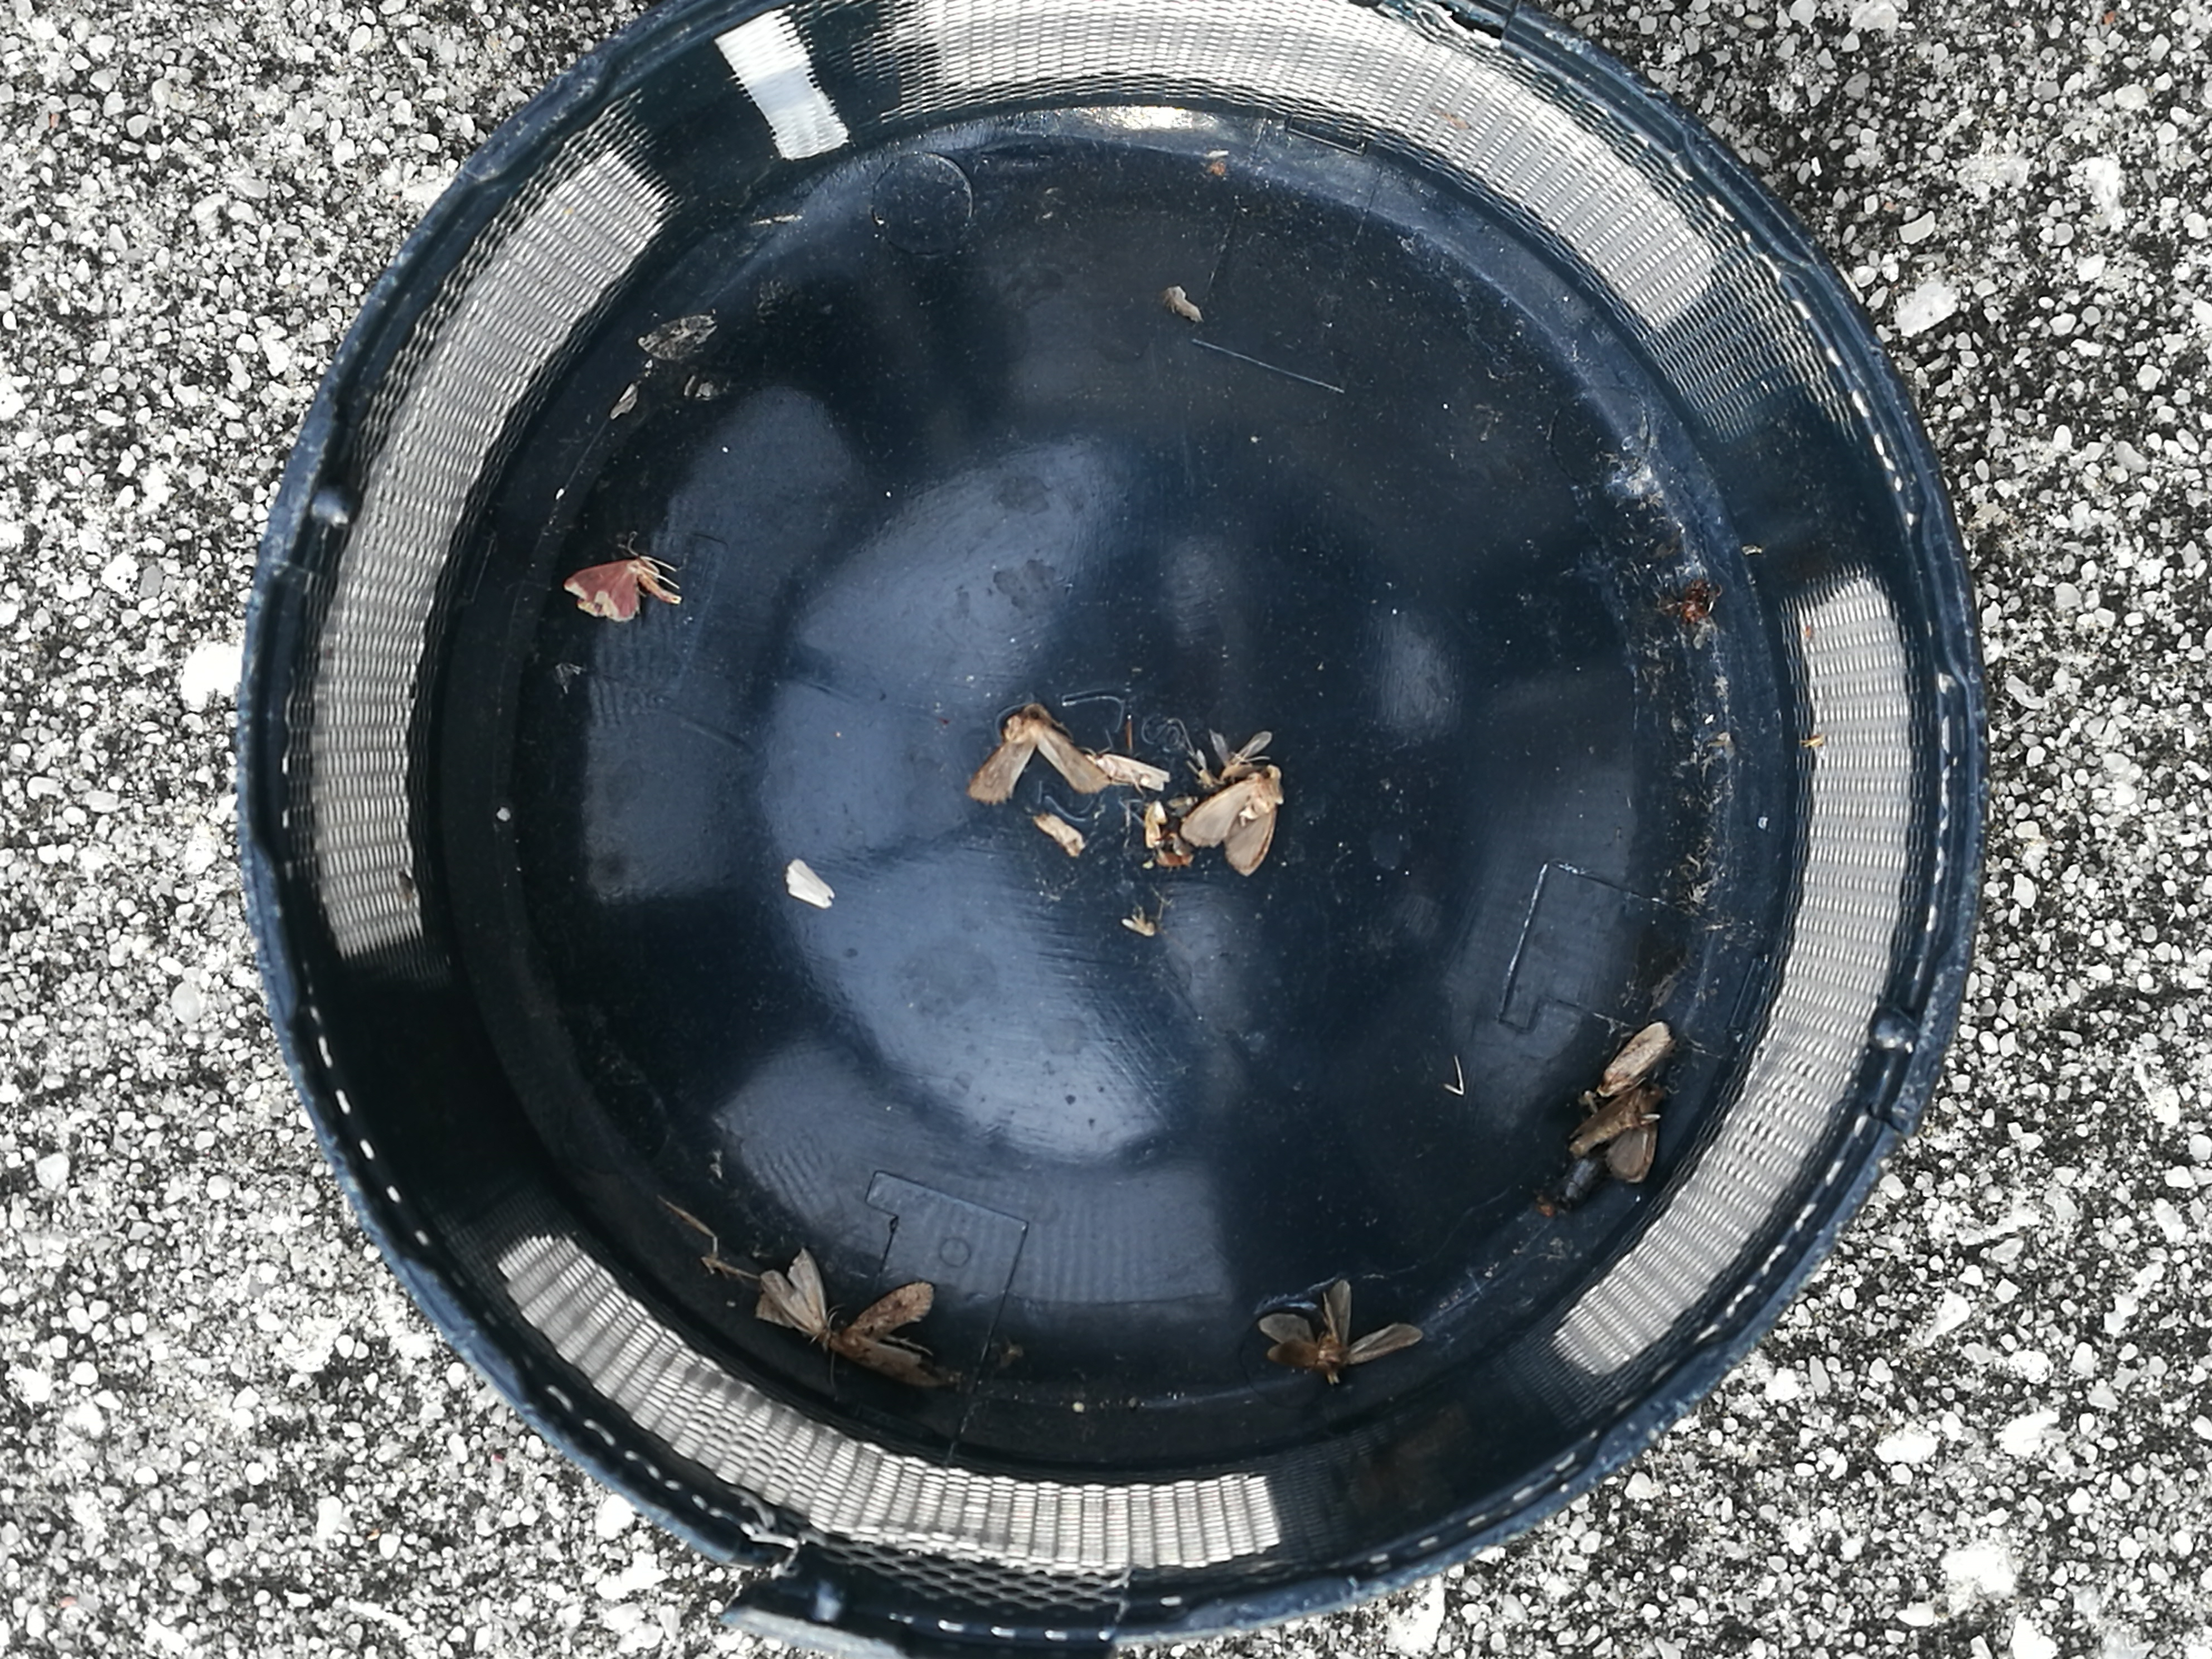mosquito: (1601, 1018, 1676, 1096), (1096, 753, 1172, 786)
moth: (1261, 1284, 1423, 1364), (974, 713, 1106, 798), (1184, 767, 1282, 873), (843, 1281, 932, 1378), (1573, 1084, 1660, 1180), (568, 559, 679, 617), (758, 1249, 826, 1335)
